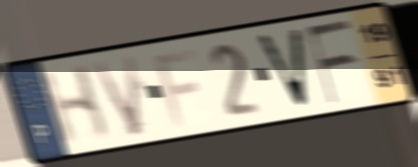2: (209, 40, 264, 120)
F: (303, 16, 359, 108), (151, 45, 202, 131)
H: (37, 60, 114, 150)
V: (86, 50, 145, 140), (252, 26, 311, 112)
